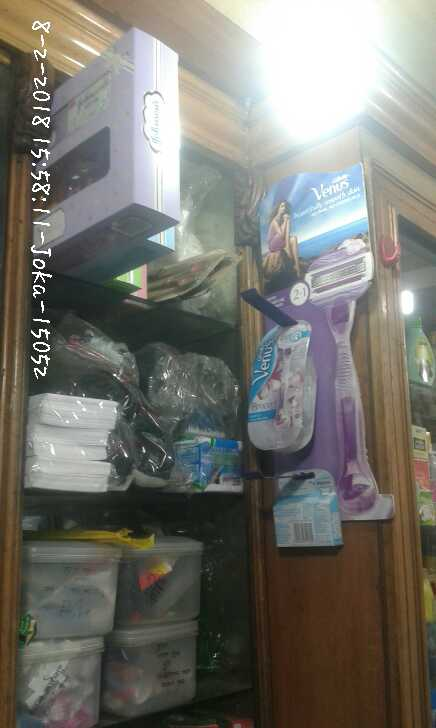venus: (241, 315, 324, 455)
